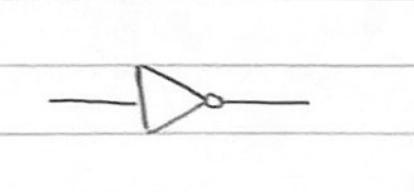NOT: (130, 58, 230, 138)
